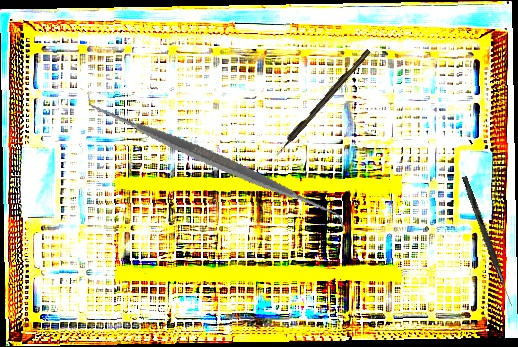Hook Surgical: (273, 48, 372, 157), (460, 175, 516, 308)
Spatula Surgical: (86, 34, 346, 289)
